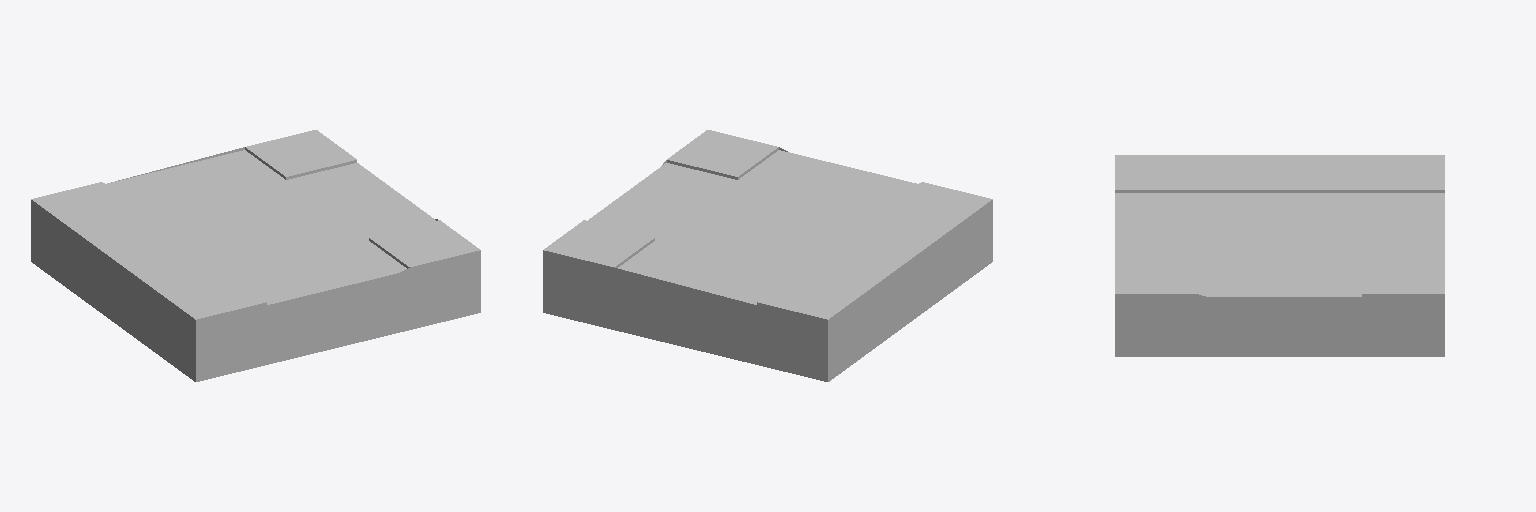
Rendered from roadTile_291.obj.
3 renders of one model, left to right at view 1: azimuth 30°, elevation 25°; view 2: azimuth 150°, elevation 25°; view 3: azimuth 270°, elevation 25°, orthographic.
Parts seen in each view (by area): view 1: Mesh1 Group1 Model; view 2: Mesh1 Group1 Model; view 3: Mesh1 Group1 Model.
Part boxes in pixels (x1,y1,x2,y2): Mesh1 Group1 Model: (31,130,480,381); Mesh1 Group1 Model: (543,130,992,381); Mesh1 Group1 Model: (1115,155,1444,356).
Bounding box in the file's own units: 3 × 0.63 × 3.